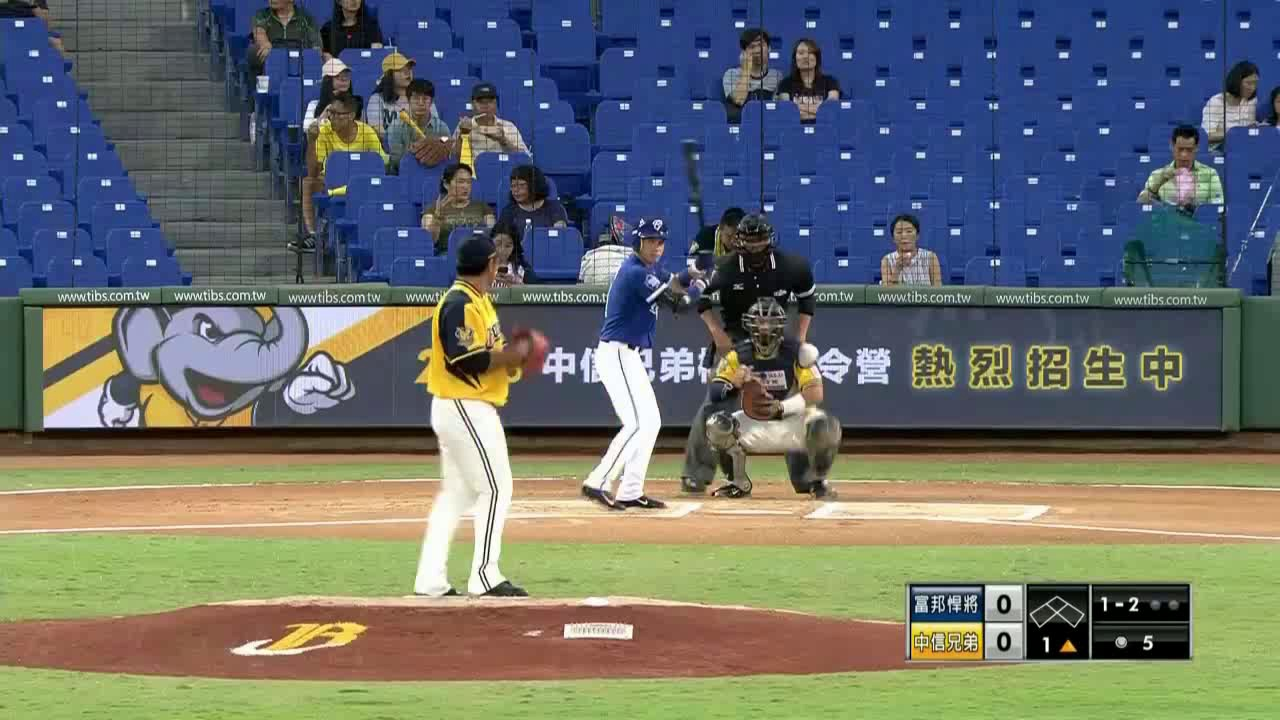ball: (519, 338, 530, 358)
base: (1025, 591, 1091, 632)
bat: (687, 142, 709, 255)
out: (1148, 588, 1183, 617)
score1: (986, 588, 1020, 621)
score2: (987, 626, 1020, 656)
session: (1029, 634, 1089, 660)
strikeball: (1094, 590, 1148, 619)
total: (1105, 630, 1157, 654)
